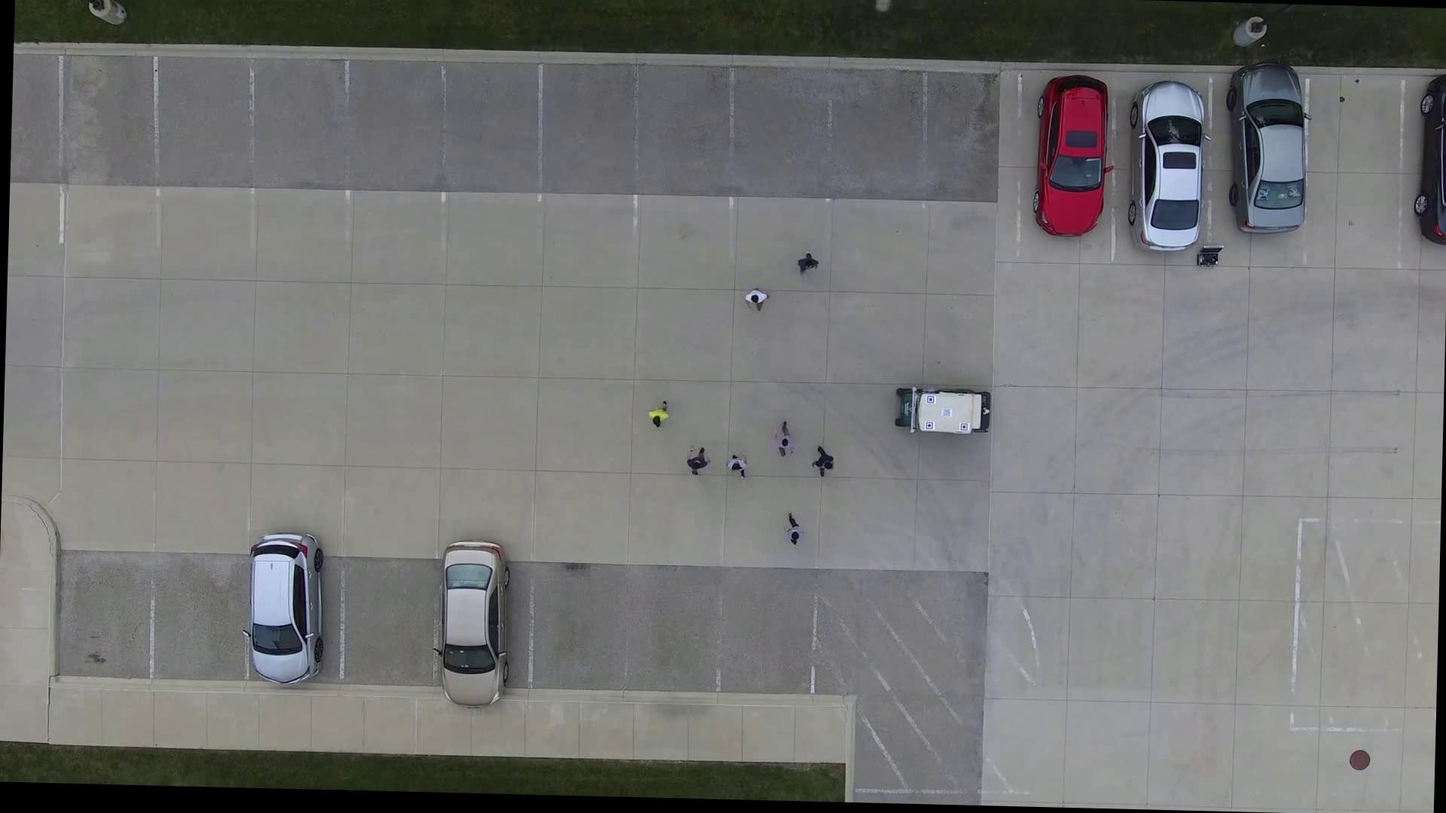person: (645, 394, 676, 431), (812, 444, 841, 482), (728, 450, 757, 486), (780, 508, 804, 546), (794, 248, 822, 279), (775, 419, 795, 461), (683, 446, 710, 477), (747, 286, 769, 318)
